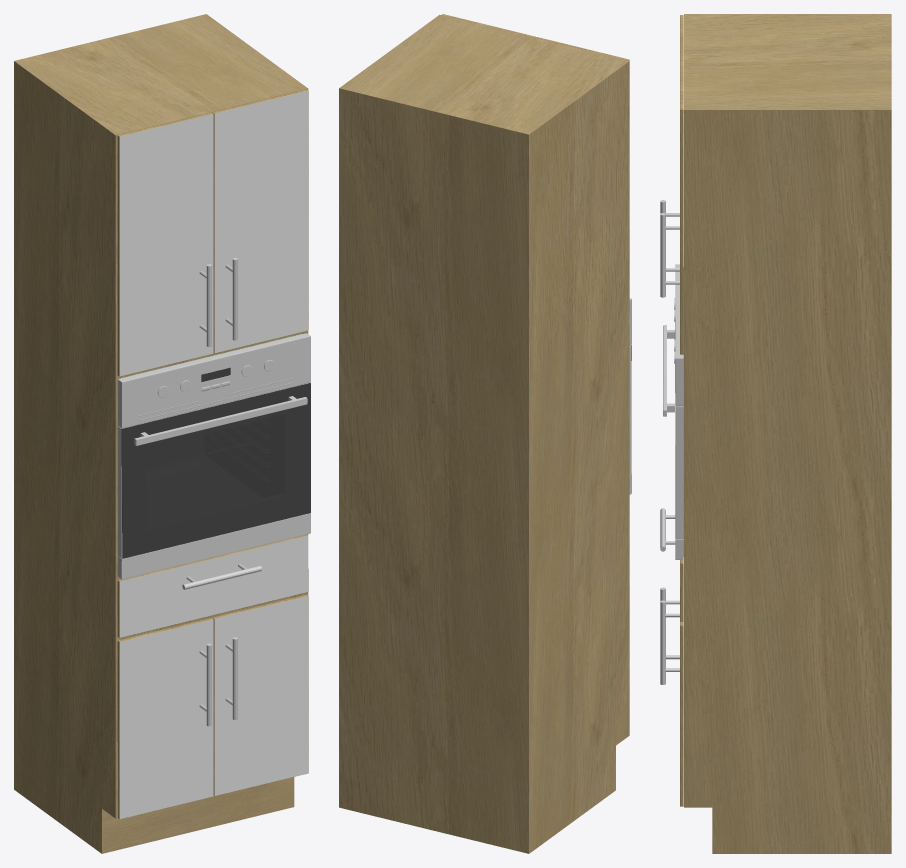
The model's file is b0-highcabinet.glb.
The picture shows the model from 3 angles, left to right: view 1: azimuth 30°, elevation 25°; view 2: azimuth 150°, elevation 25°; view 3: azimuth 270°, elevation 25°; orthographic projection. The views are drawn at different scales.
Visible parts, largest first — view 1: Cube.011_Cube.018, electric_oven_embedable.002_Cube.006; view 2: Cube.011_Cube.018, electric_oven_embedable.002_Cube.006; view 3: Cube.011_Cube.018, electric_oven_embedable.002_Cube.006.
Boxes of the visible parts, <box> form: Cube.011_Cube.018: <box>14,14,308,853</box>; electric_oven_embedable.002_Cube.006: <box>117,333,310,579</box>; Cube.011_Cube.018: <box>339,14,629,853</box>; electric_oven_embedable.002_Cube.006: <box>629,298,631,494</box>; Cube.011_Cube.018: <box>660,14,891,853</box>; electric_oven_embedable.002_Cube.006: <box>663,264,683,559</box>.
Size of the model in its own units: 0.6 by 2.17 by 0.612.
7 materials, 1 textured.
